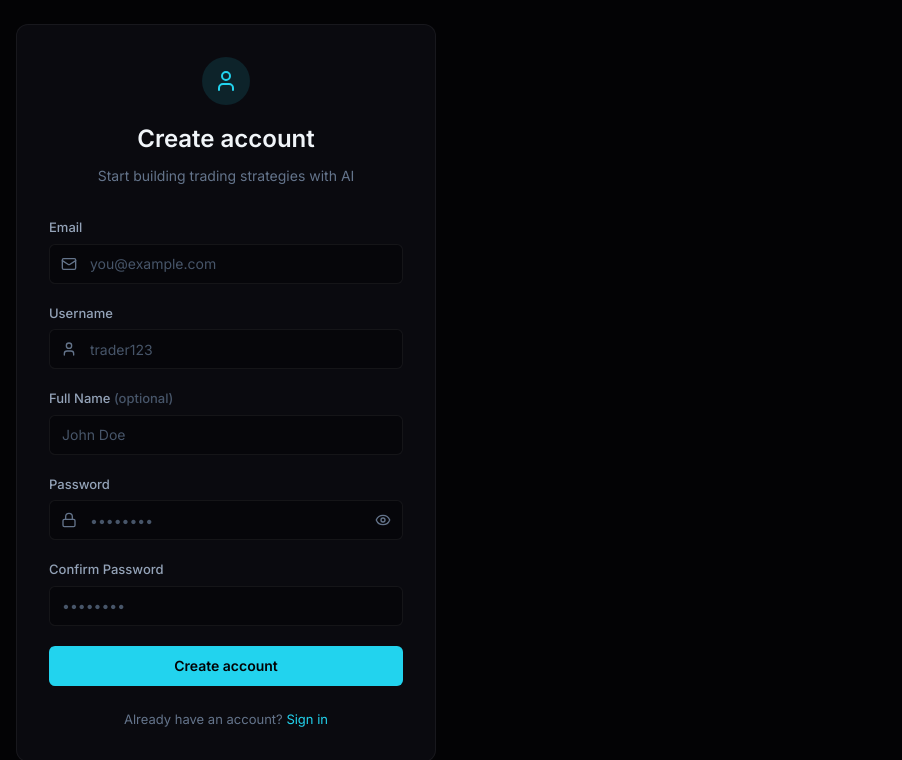
Test: Register page › shows an error when password is too short
Type "trader@example.com" into the field with test id "register-email" at (226, 264), box [49,244,403,284]
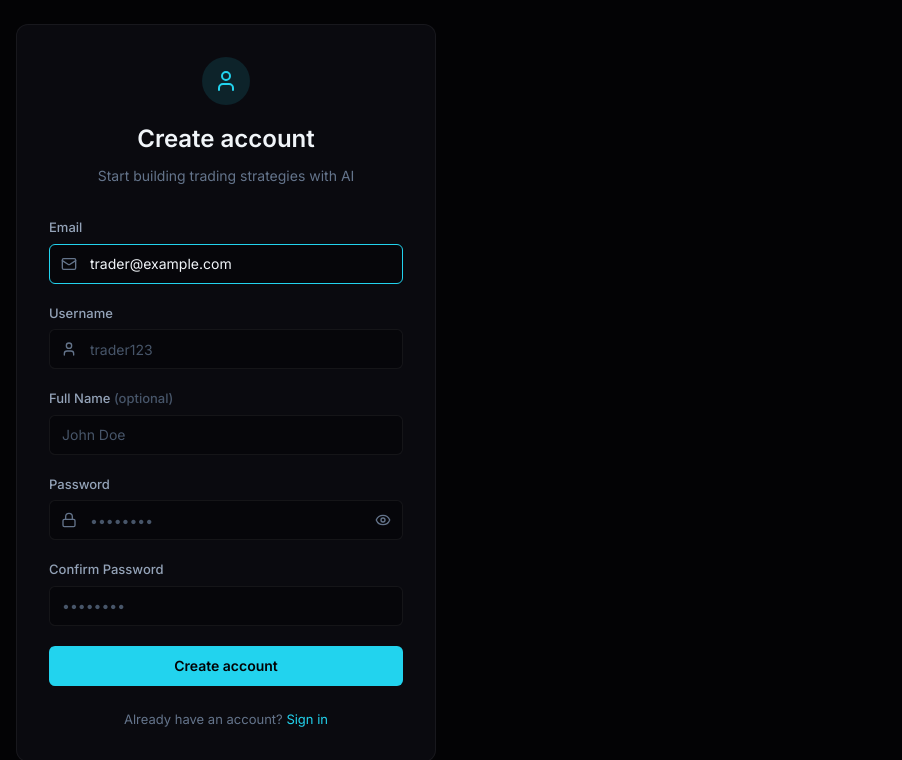
Type "trader" into the field with test id "register-username" at (226, 349), box [49,329,403,369]
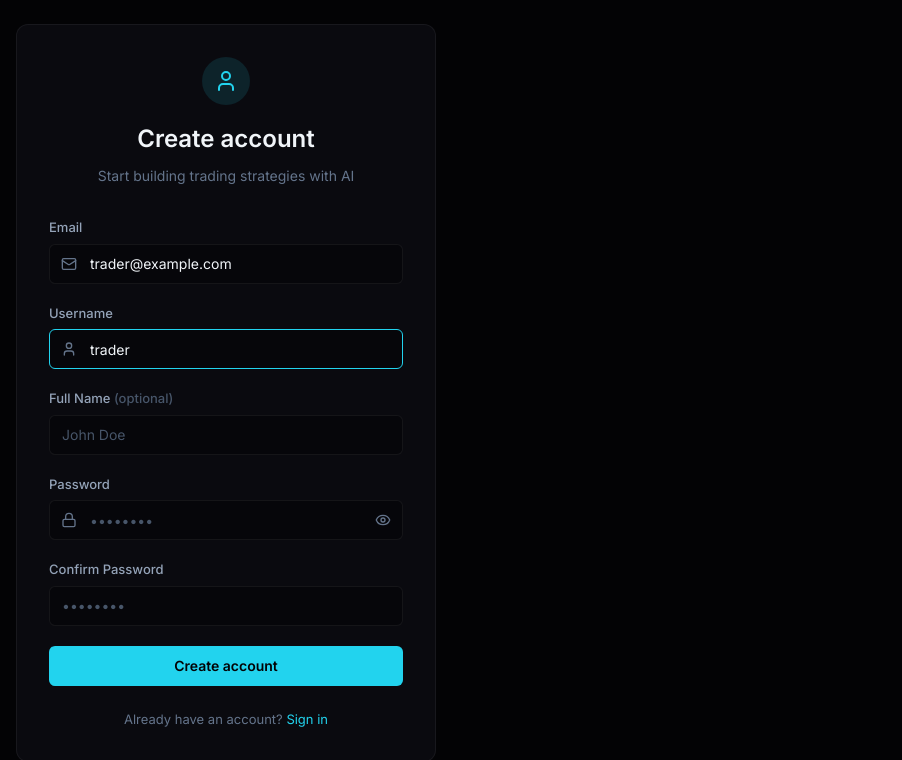
Type "short" into the password field with test id "register-password" at (226, 520), box [49,500,403,540]
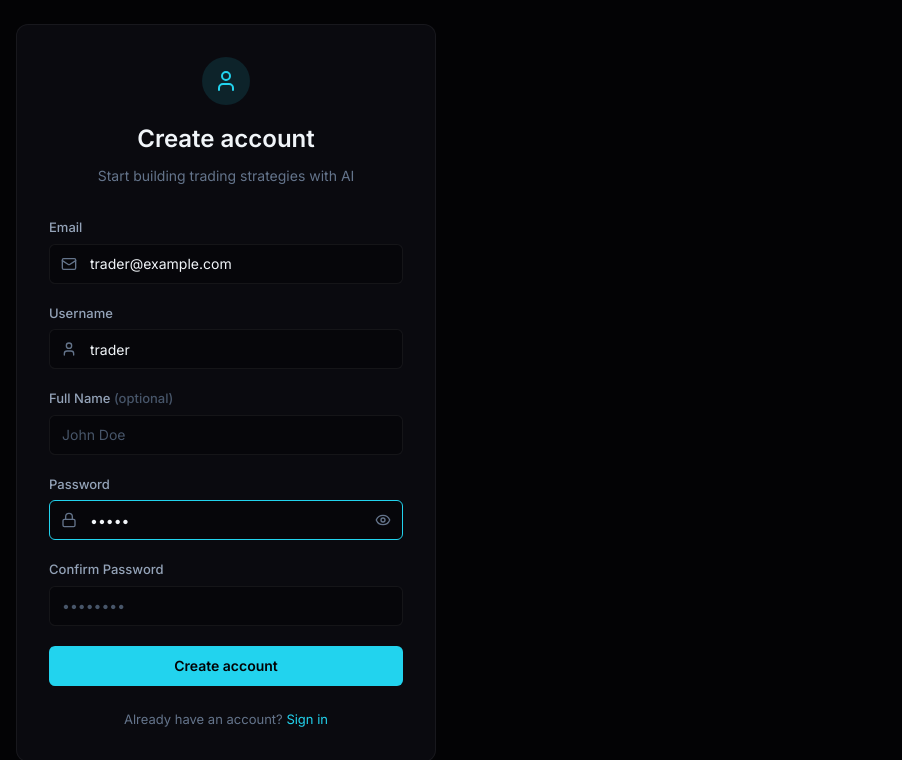
Type "short" into the password field with test id "register-confirm-password" at (226, 606), box [49,586,403,626]
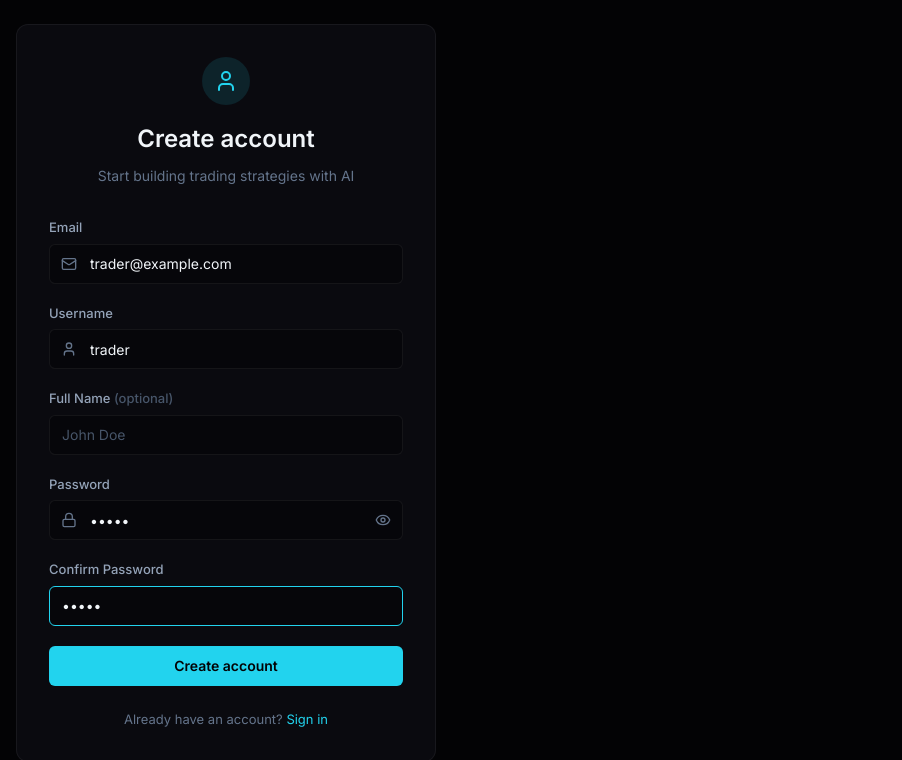
Click the button with test id "register-submit" at (226, 666), box [49,646,403,686]
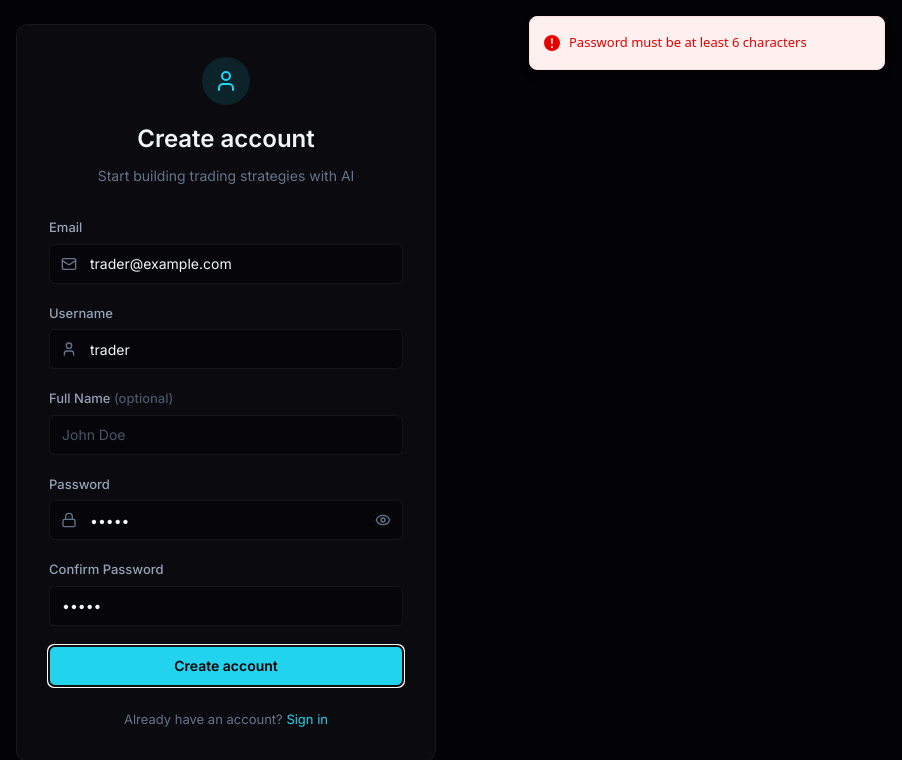
Check: the text "Password must be at least 6 characters" is shown, box [569,33,807,52]
